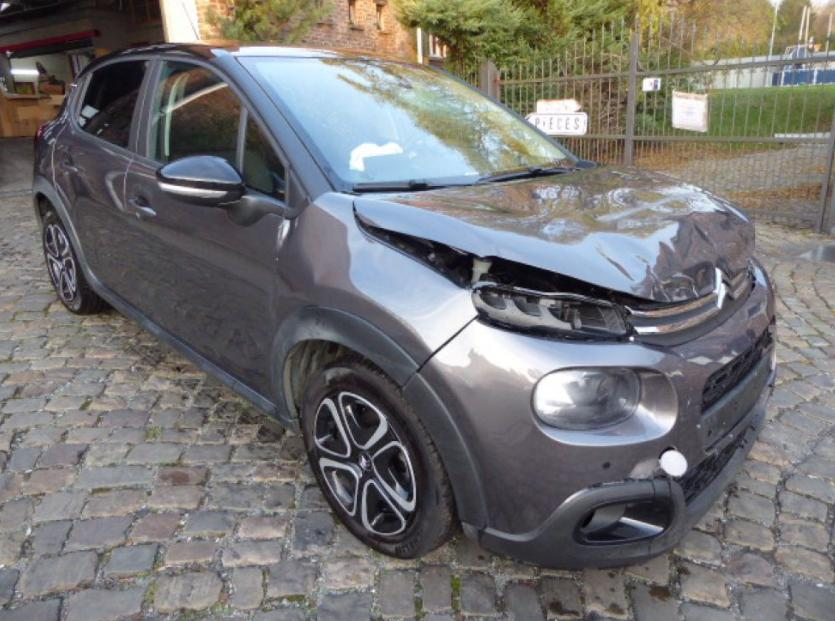Back-door: (53, 54, 159, 308)
Back-wheel: (43, 212, 109, 313)
Back-window: (72, 59, 150, 151)
Fender: (274, 188, 480, 409)
Front-bumper: (399, 256, 776, 571)
Front-door: (124, 55, 289, 399)
Front-wheel: (300, 358, 457, 561)
Front-window: (149, 60, 301, 208)
Grille: (700, 327, 773, 420)
Headlight: (529, 365, 678, 451), (472, 281, 637, 345), (534, 368, 642, 429)
Hood: (354, 164, 756, 302)
License-plate: (697, 353, 773, 461)
Mirror: (155, 156, 301, 228)
Quarter-panel: (33, 109, 102, 285)
Rocker-panel: (85, 279, 301, 437)
Roof: (79, 39, 419, 76)
Tail-light: (33, 123, 52, 150)
Windshield: (235, 56, 594, 191)
